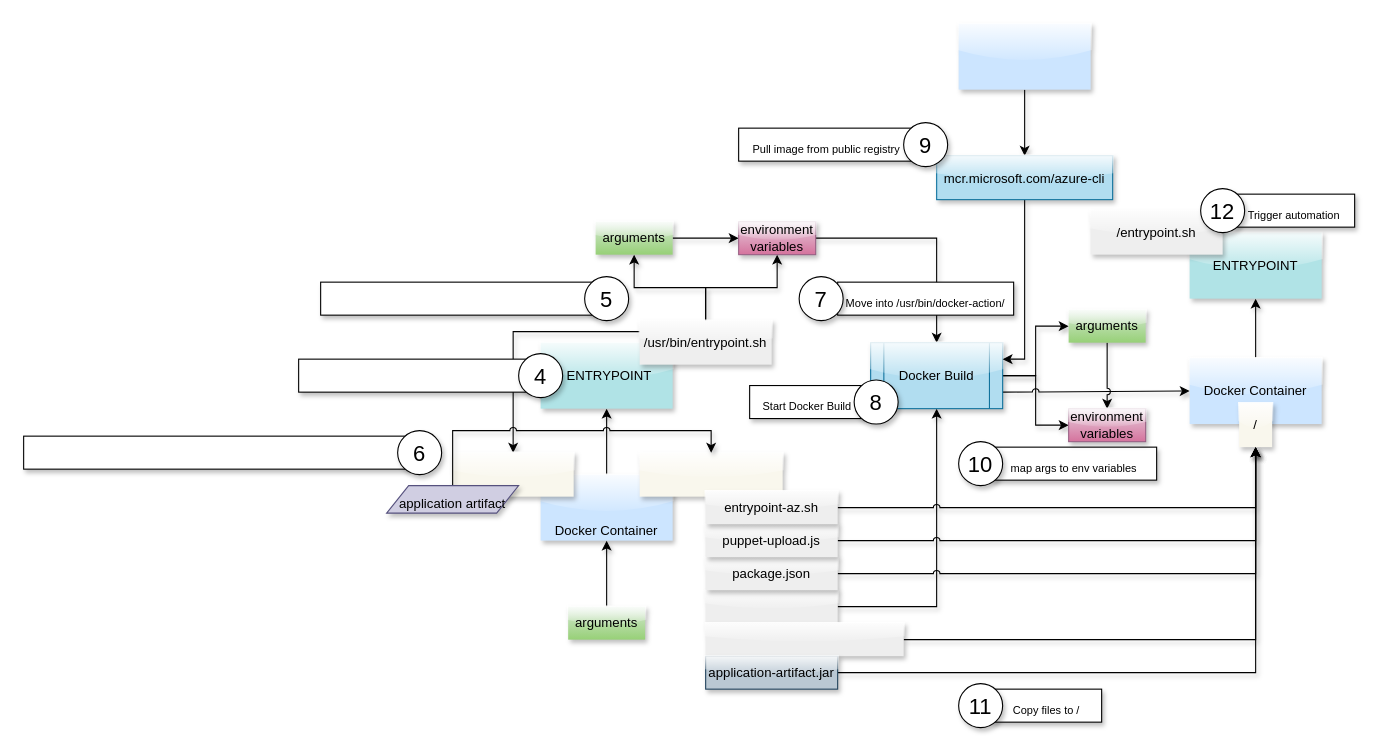
This 1381x755 diagram has some shape labels left out. Here are the shapes that lost their labels. From the top down, the centre of each, then its label:
At (1025,58): "Docker Hub".
At (458,300): "Map incoming arguments to environment variables".
At (414,377): "Script execution starts via ENTRYPOINT".
At (216,454): "Copy application artifact from mounted volume to /usr/bin/docker-action/".
At (514,476): "/github/workspace/".
At (712,476): "/usr/bin/docker-action".
At (772,607): "Dockerfile".
At (805,640): "file-demo-0.0.1-SNAPSHOT.jar".
